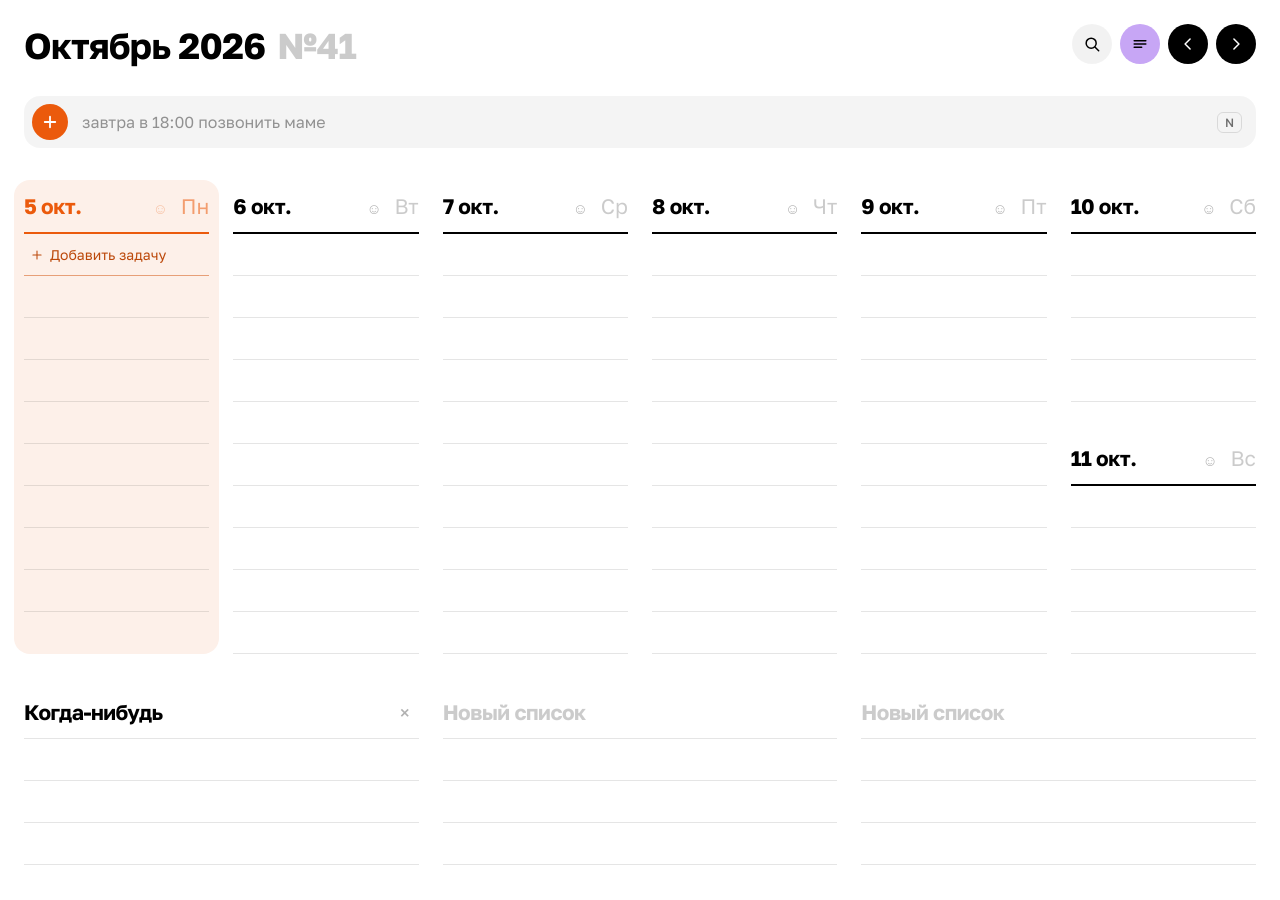
Test: стикеры › ставит и убирает стикер на дне
This screenshot has width=1280, height=900.
Step 1. Click the button named "Стикер на 5 октября" → [160, 206], box 147,193 -> 173,219
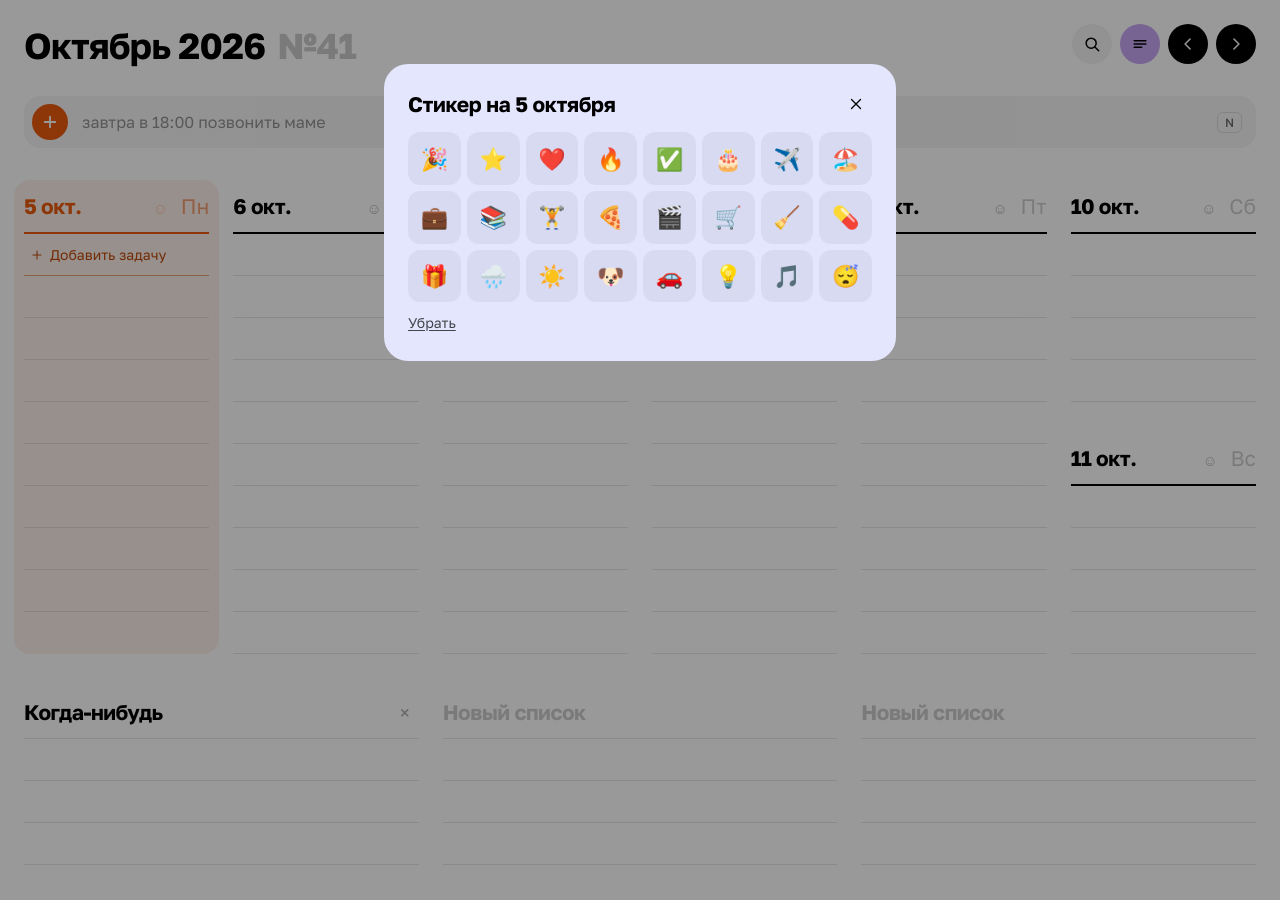
Step 2. Click the button "🎉" → [434, 158], box 408,132 -> 461,185
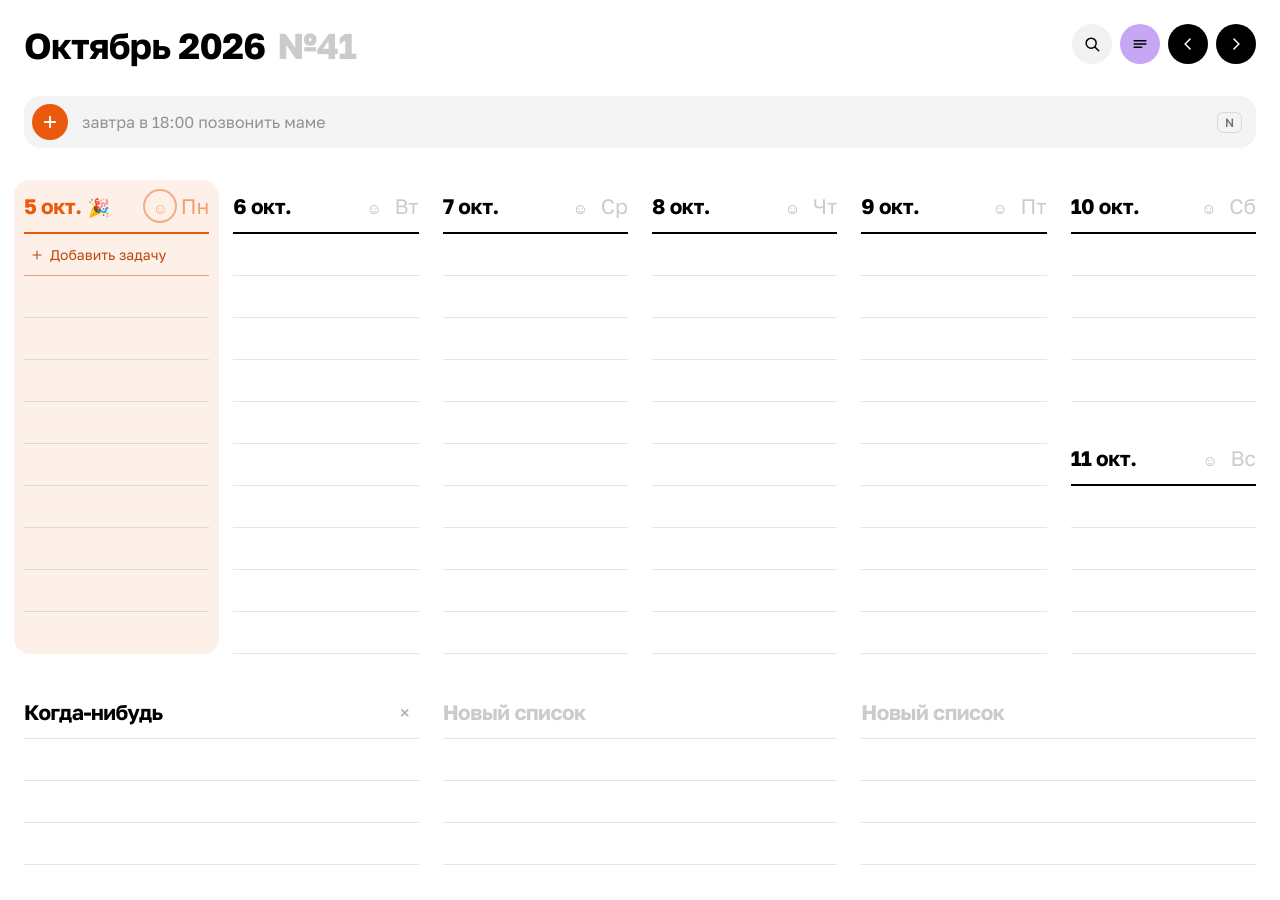
Check: the text "🎉" is shown, box 88,193 -> 110,221
Step 3. Click the button named "Стикер на 5 октября" → [160, 206], box 147,193 -> 173,219
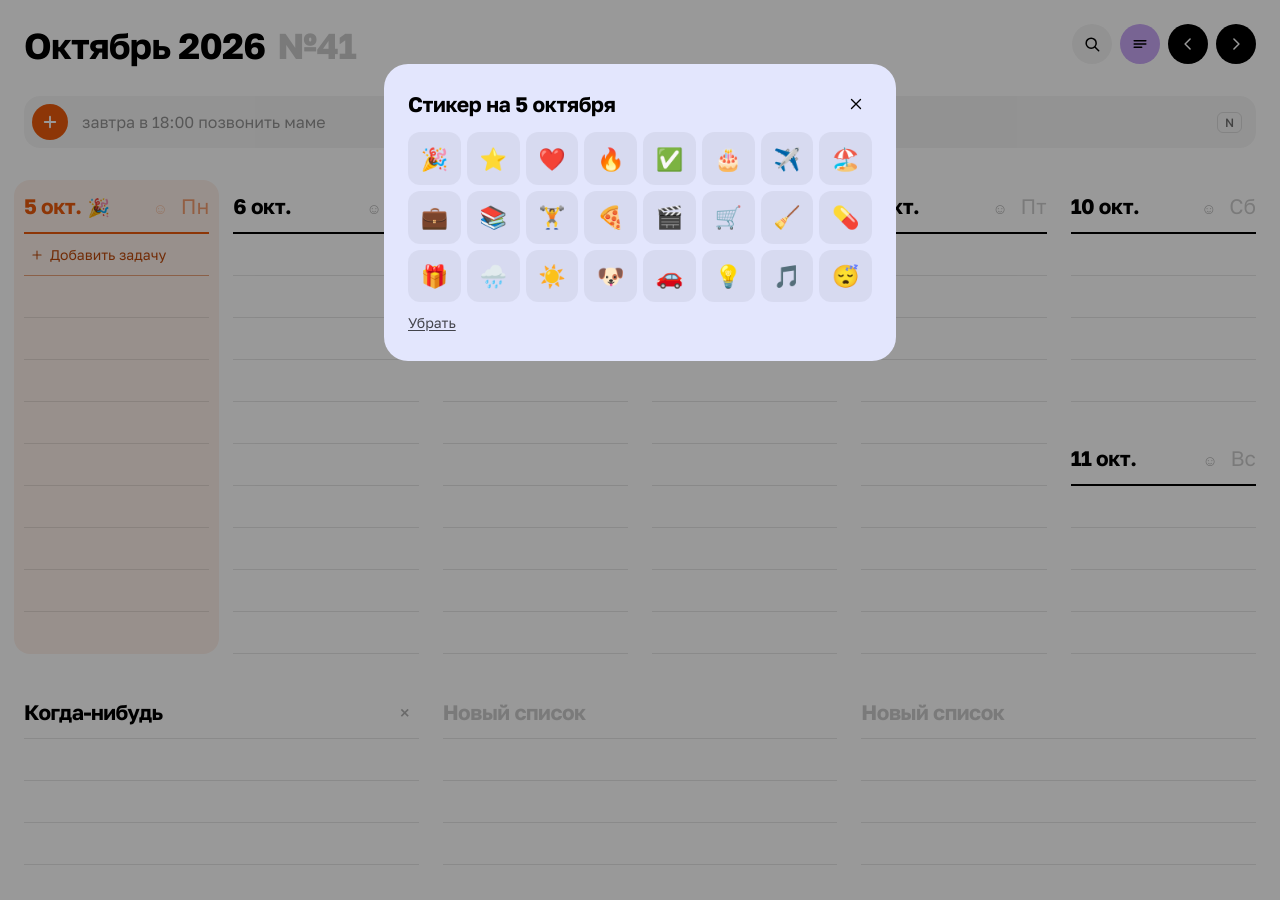
Step 4. Click the button "Убрать" → [432, 324], box 408,310 -> 456,337
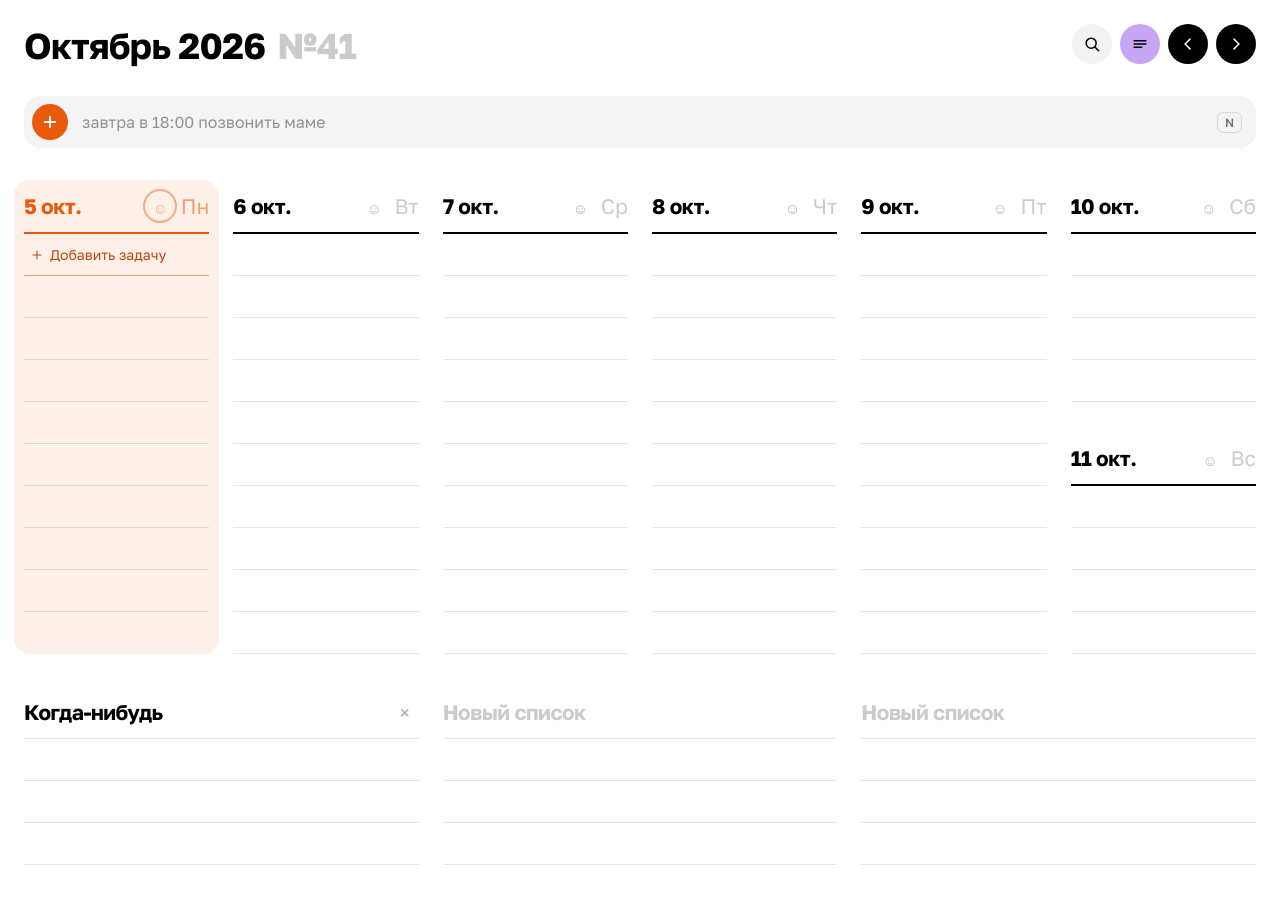
Check: the text "🎉" is gone
